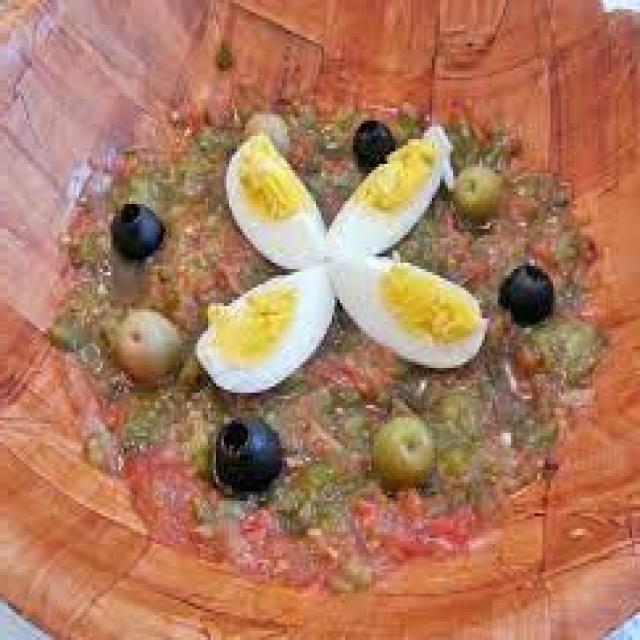Salade mechweya: (70, 90, 588, 553)
